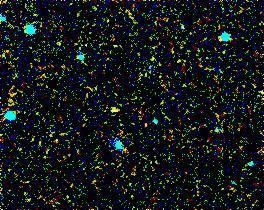star: (95, 90, 125, 120)
